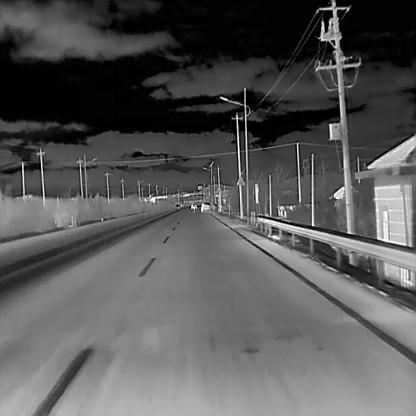car: (200, 200, 211, 214), (189, 202, 198, 210)
